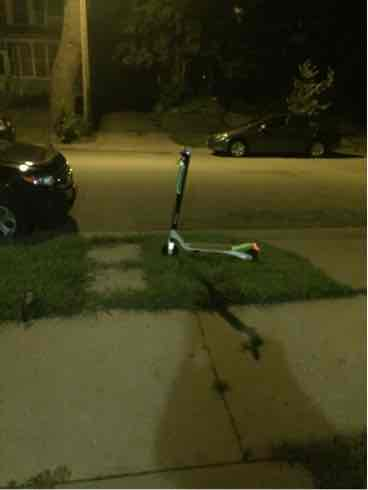scooter: (157, 138, 266, 266)
